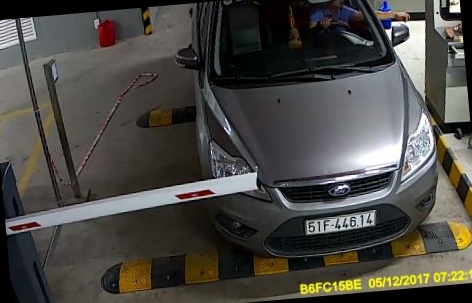plate: (302, 208, 383, 241)
